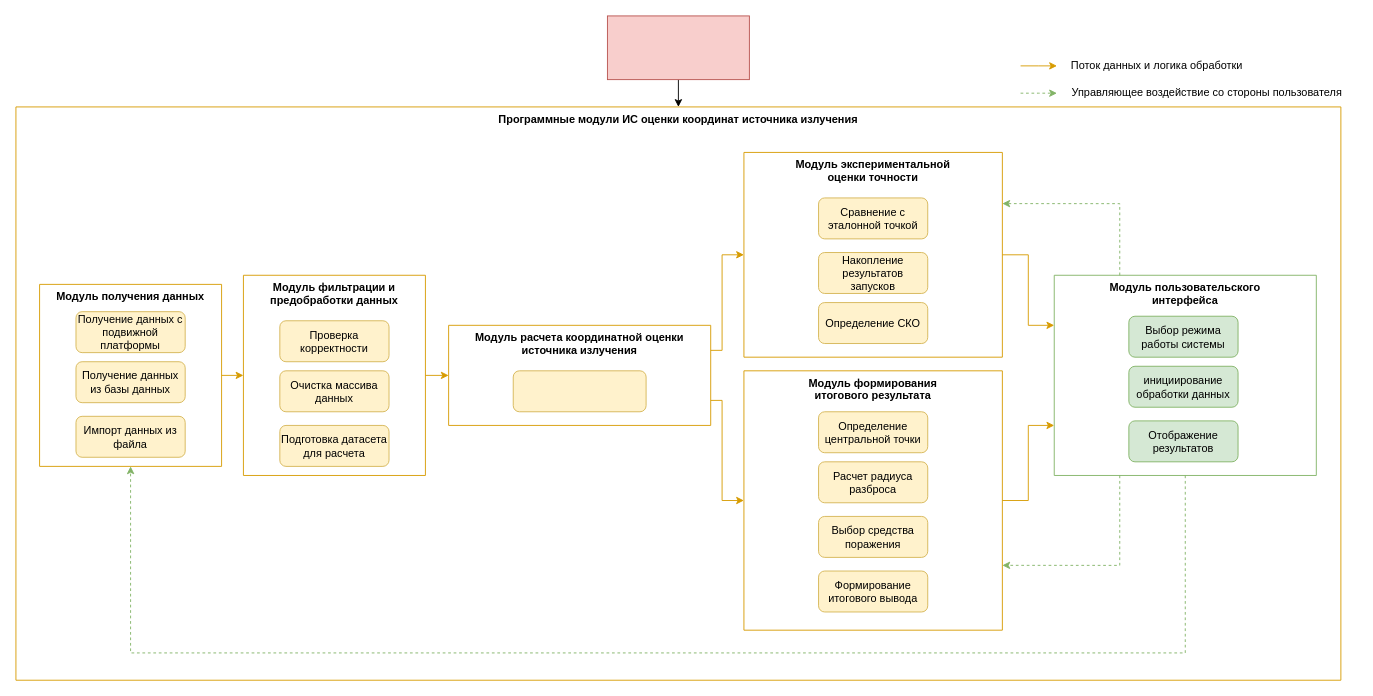
The diagram is 1373 pixels wide and 696 high, and some of its shapes have lost their labels. Here are the shapes that lost their labels. From the top down, the centre of each, then its label:
(x=678, y=47): Информационная система оценки координат источника излучения
(x=579, y=391): Математический метод расчета координат источника излучения
